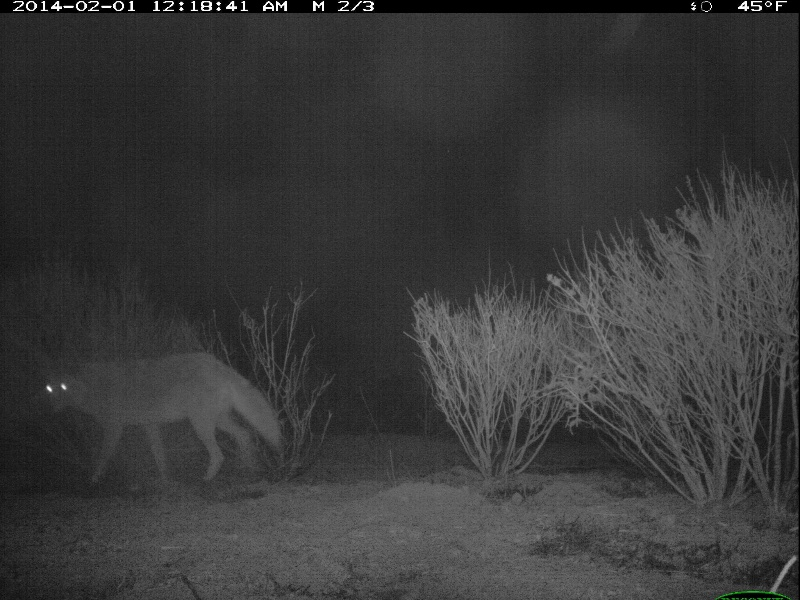coyote: (31, 344, 291, 494)
